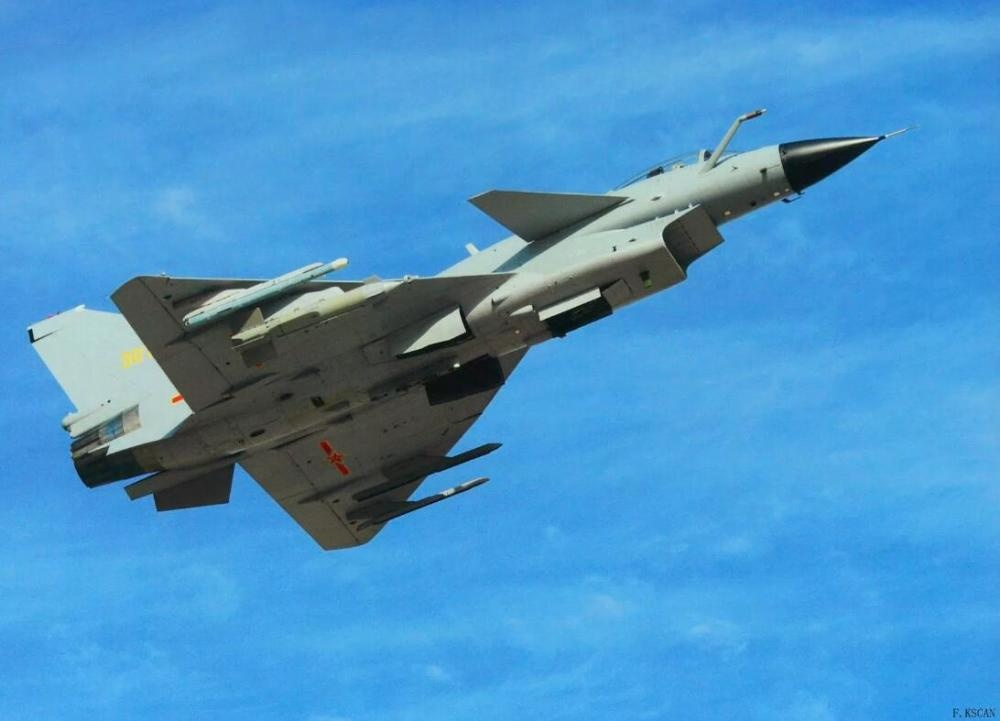airplane: (19, 109, 910, 549)
